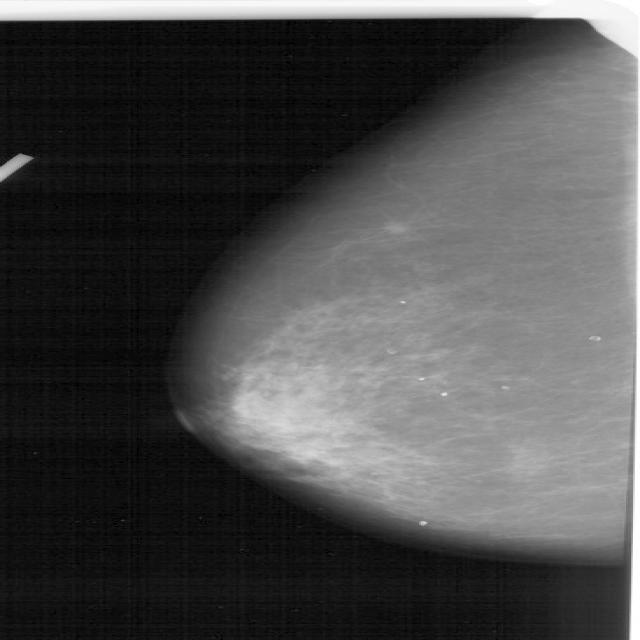tumour: (374, 221, 412, 234)
